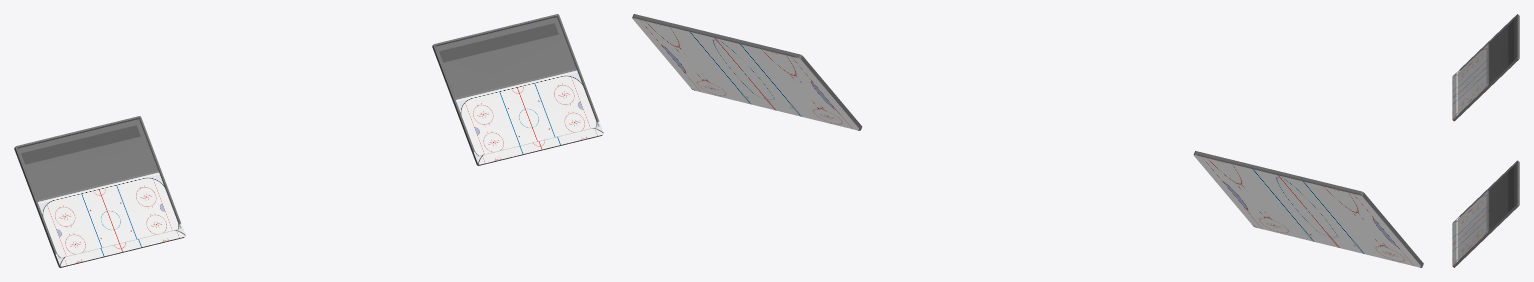
The model's file is DMscreenEntV0.1.fbx.
3 renders of one model, left to right at view 1: azimuth 30°, elevation 25°; view 2: azimuth 150°, elevation 25°; view 3: azimuth 270°, elevation 25°, orthographic. The views are drawn at different scales.
Visible parts, largest first — view 1: DMscreenEntrance_screen, DMscreenEntrance_body; view 2: DMscreenEntrance_body; view 3: DMscreenEntrance_screen, DMscreenEntrance_body.
Part boxes in pixels (x1,y1,x2,y2): DMscreenEntrance_screen: (18, 17, 597, 257); DMscreenEntrance_body: (14, 14, 603, 267); DMscreenEntrance_body: (632, 14, 1423, 267); DMscreenEntrance_screen: (1458, 17, 1516, 260); DMscreenEntrance_body: (1452, 14, 1519, 267).
Bounding box in the file's own units: 3782 × 595 × 563.
